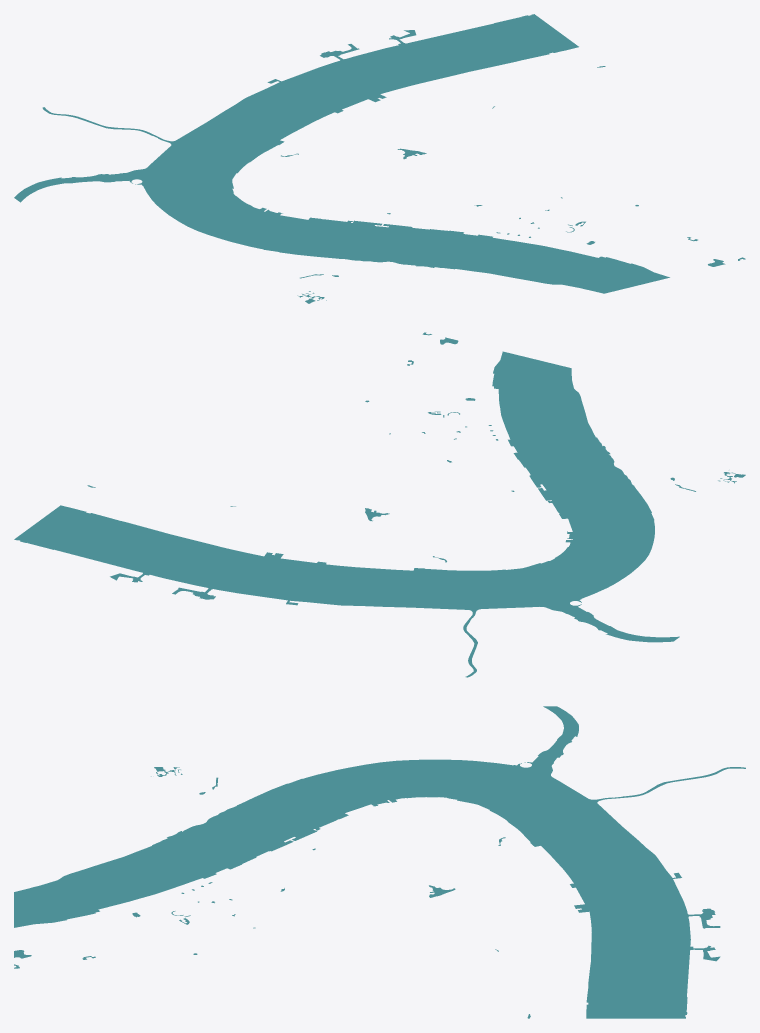
Rendered from water.glb.
3 renders of one model, top to bottom at view 1: azimuth 30°, elevation 25°; view 2: azimuth 150°, elevation 25°; view 3: azimuth 270°, elevation 25°, orthographic. The views are drawn at different scales.
Parts seen in each view (by area): view 1: huangpu-suzhou-water; view 2: huangpu-suzhou-water; view 3: huangpu-suzhou-water.
Part boxes in pixels (x1,y1,x2,y2): huangpu-suzhou-water: (14, 14, 745, 303); huangpu-suzhou-water: (14, 332, 745, 677); huangpu-suzhou-water: (14, 706, 745, 1018).
Bounding box in the file's own units: 3500 × 0 × 3470.
